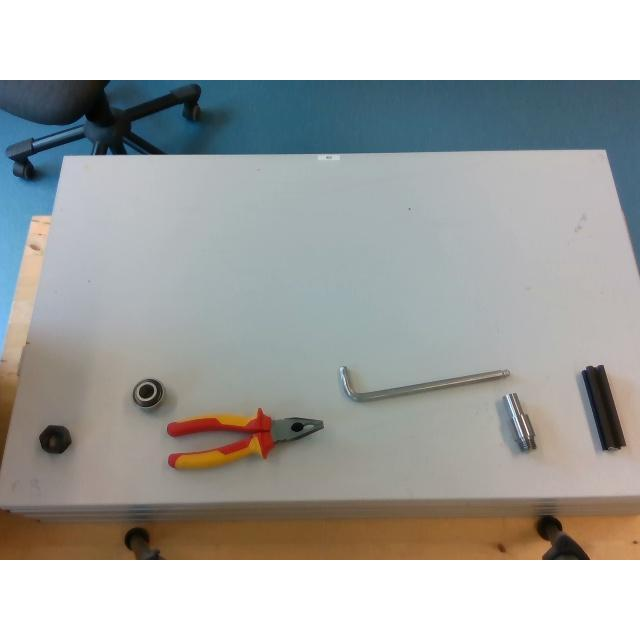AllenKey: (338, 364, 510, 402)
Axis2: (504, 394, 536, 451)
Bearing2: (132, 379, 164, 407)
F20_20_B: (580, 366, 624, 450)
M20: (38, 425, 70, 453)
